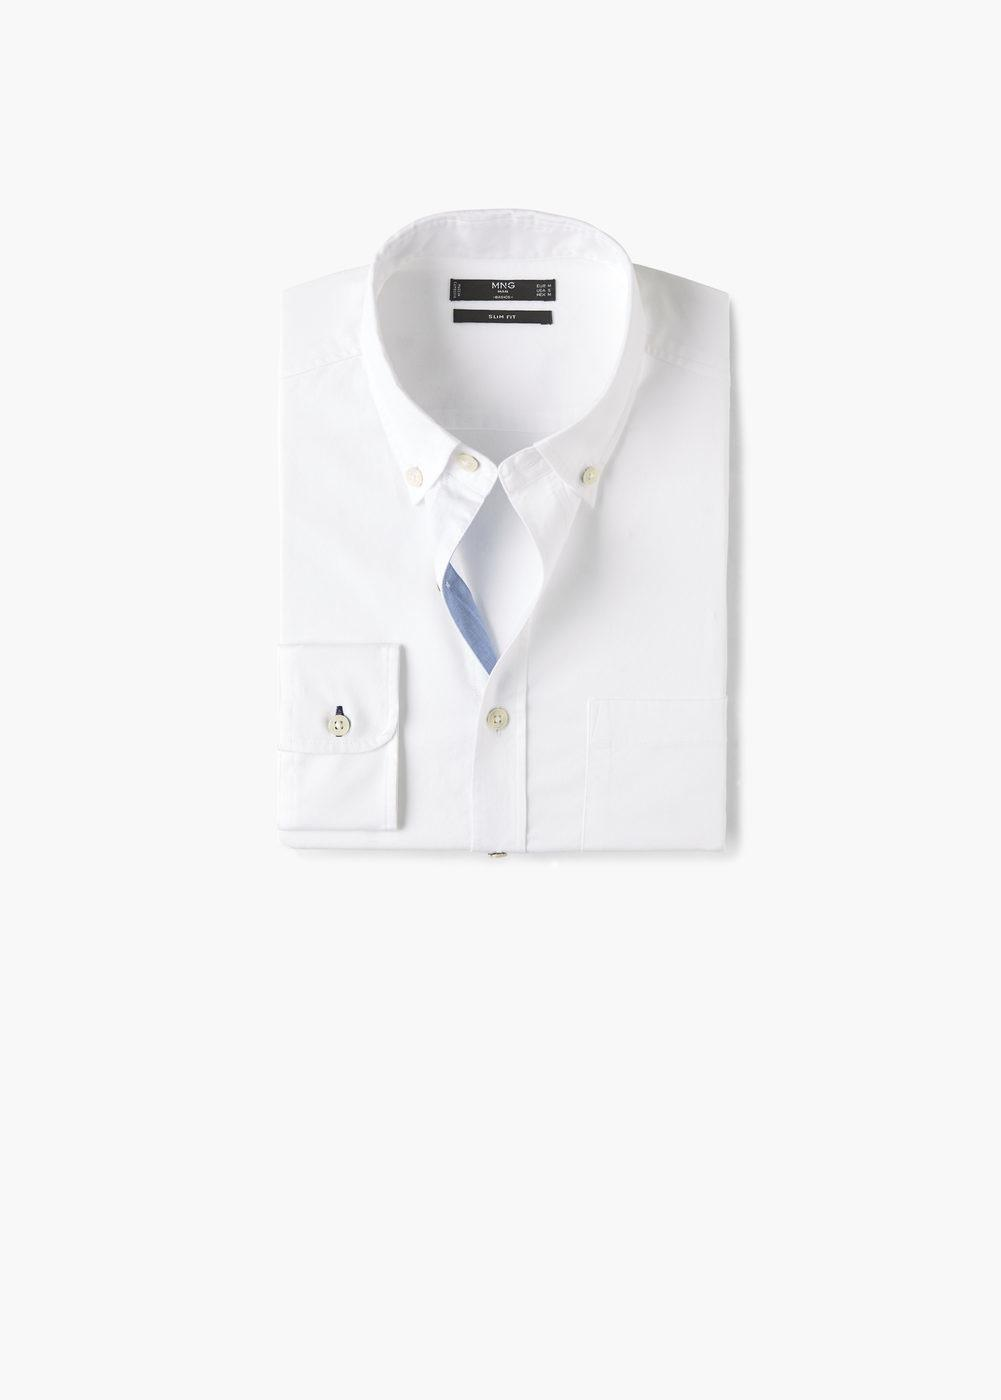teeshirt: (274, 206, 729, 861)
